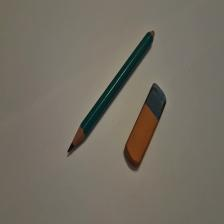eraser: (126, 83, 168, 167)
pencil: (68, 31, 156, 154)
